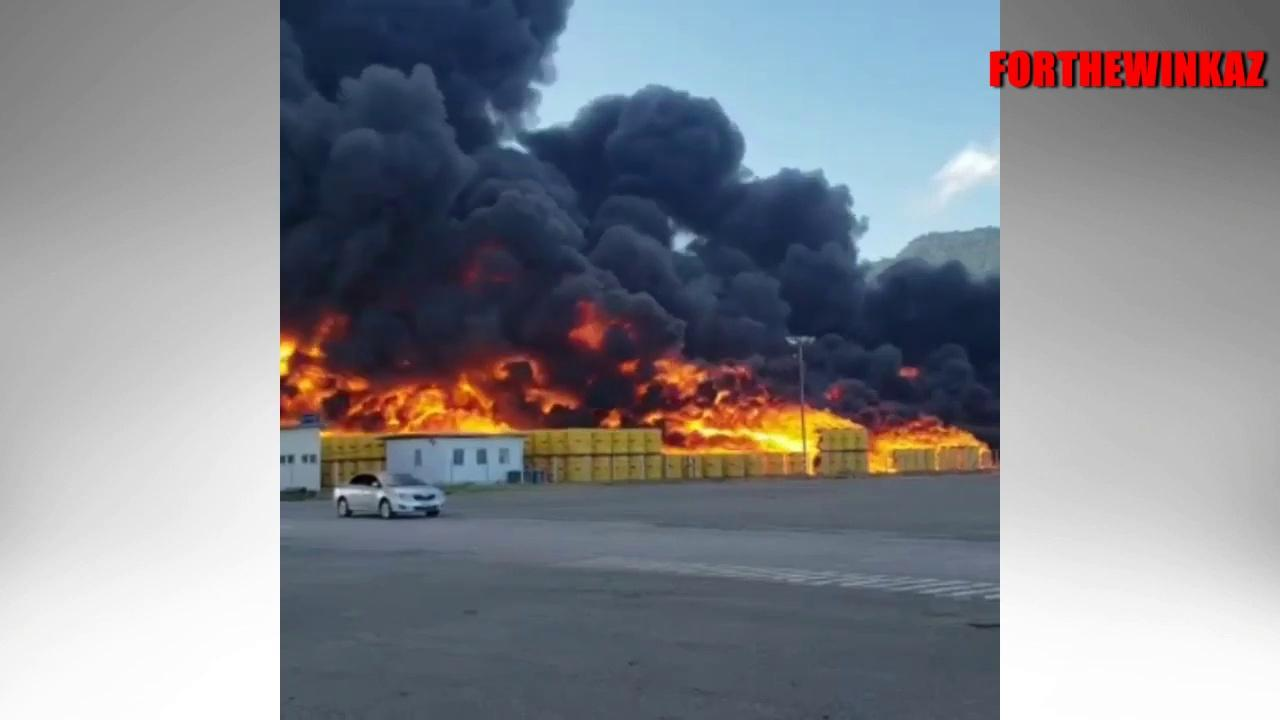Fire: (288, 347, 531, 436), (656, 394, 987, 450)
